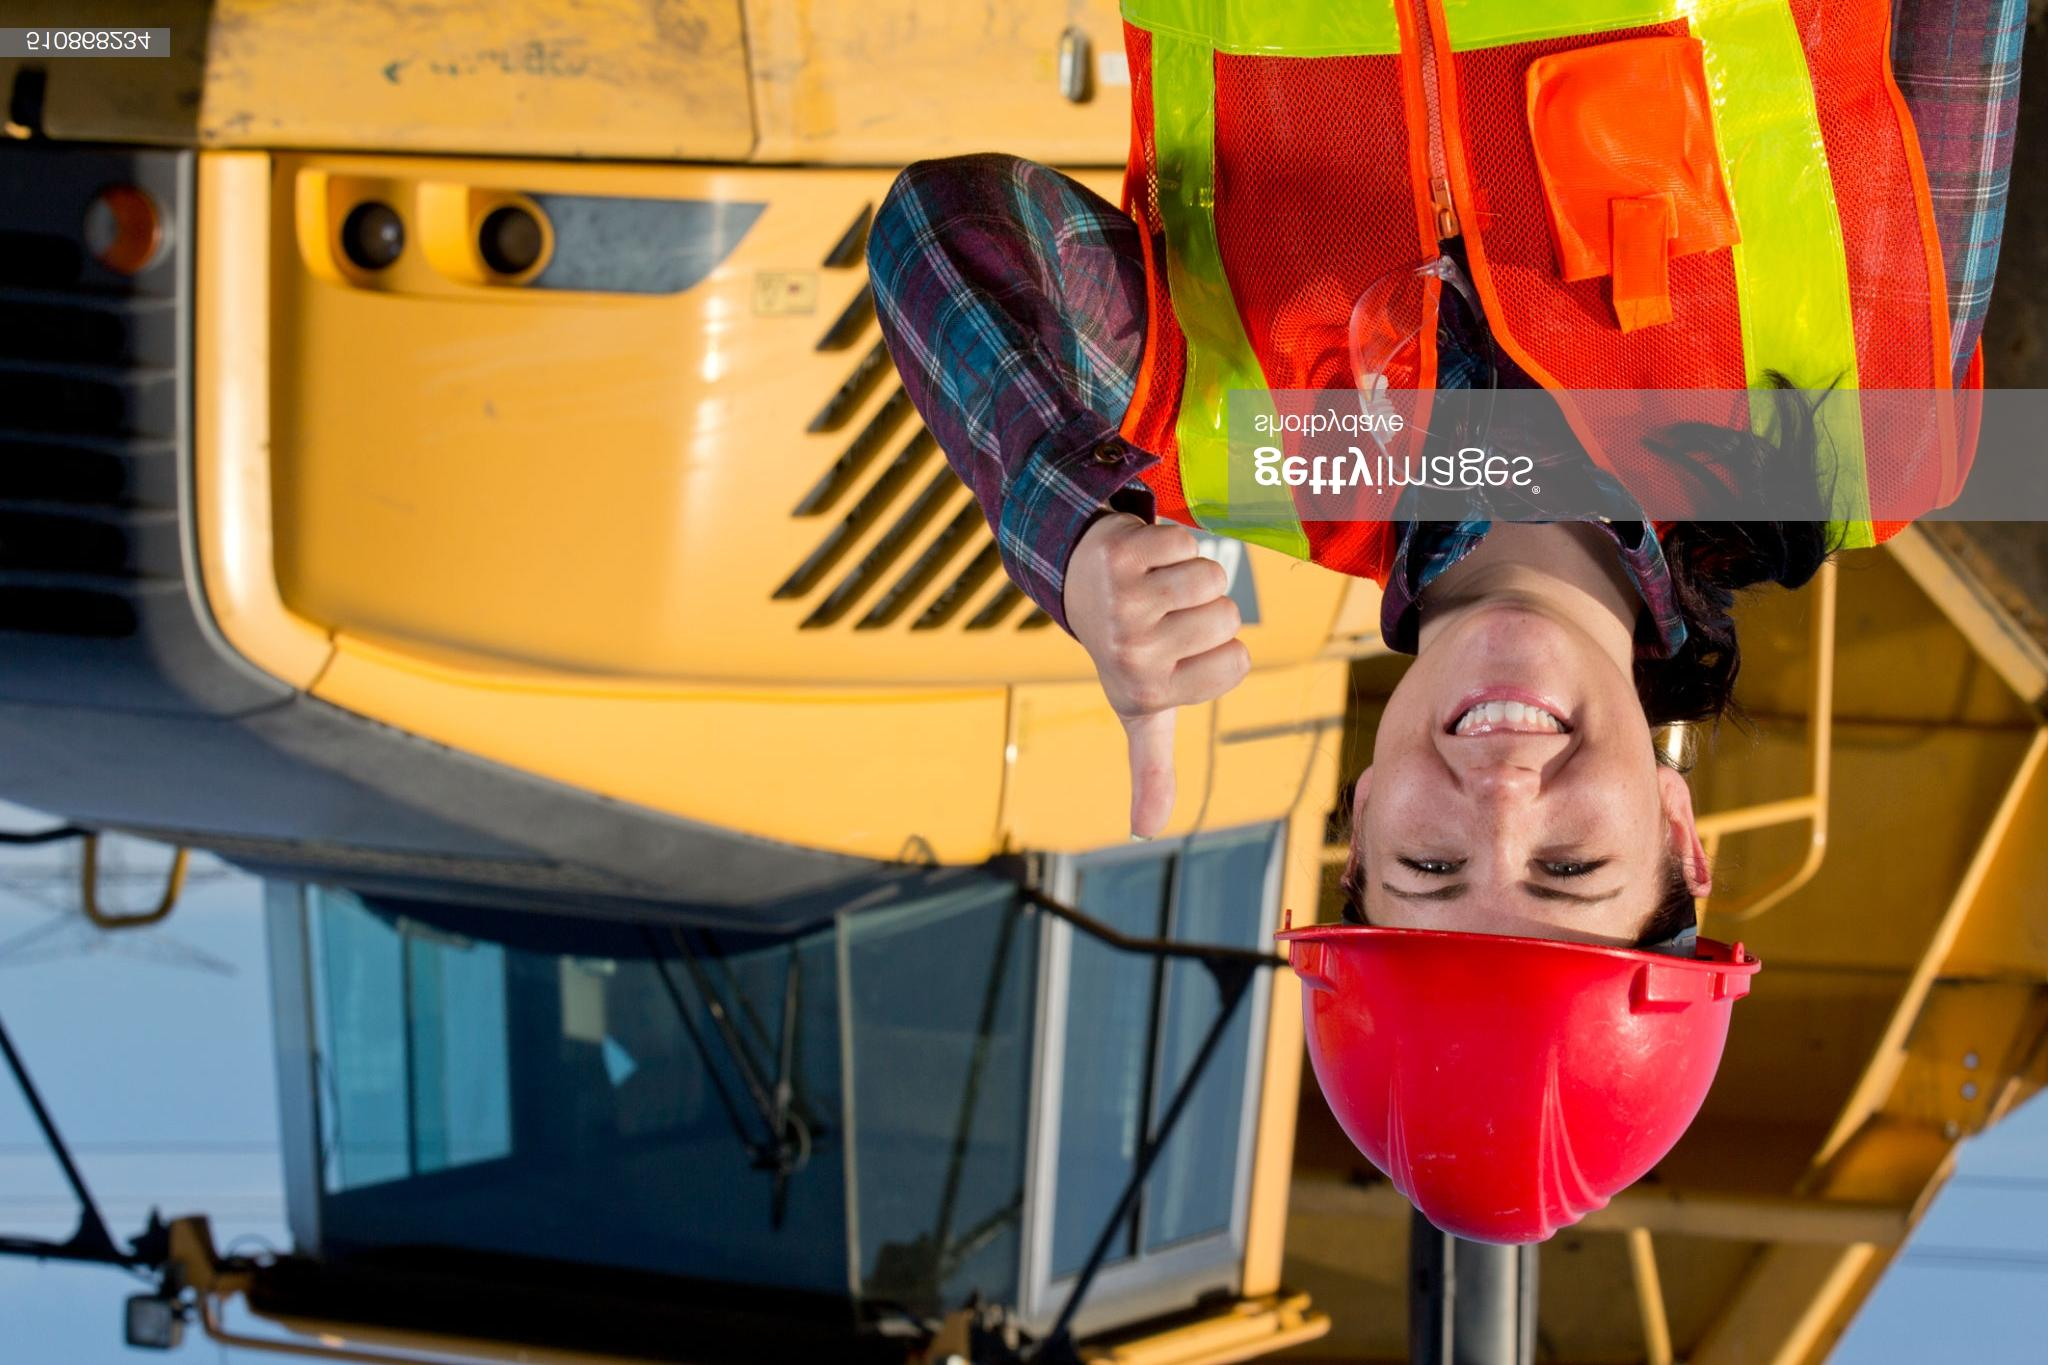thumbsdown: (1092, 527, 1252, 844)
